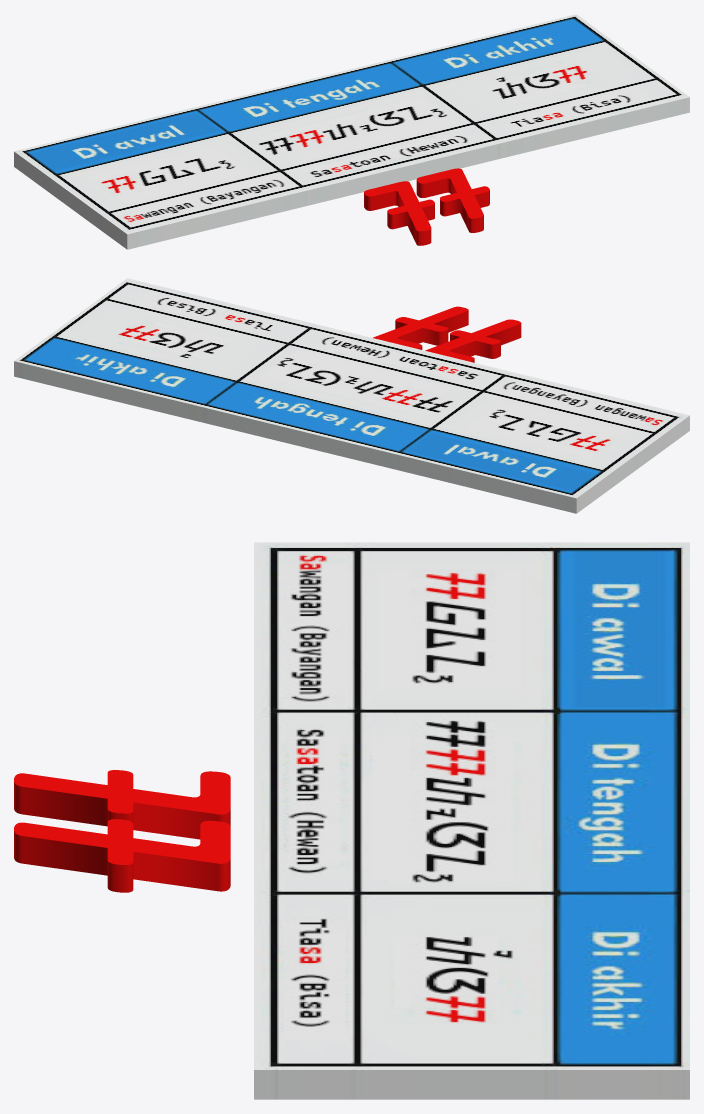
The picture shows the model from 3 angles, top to bottom: view 1: azimuth 30°, elevation 25°; view 2: azimuth 150°, elevation 25°; view 3: azimuth 270°, elevation 25°; orthographic projection. The views are drawn at different scales.
Visible parts, largest first — view 1: contoh-bunyi-huruf-sa-Ngalagena, Text; view 2: contoh-bunyi-huruf-sa-Ngalagena, Text; view 3: contoh-bunyi-huruf-sa-Ngalagena, Text.
Boxes of the visible parts, x1,y1,x2,y2 form: contoh-bunyi-huruf-sa-Ngalagena: (14,14,689,249); Text: (364,168,489,245); contoh-bunyi-huruf-sa-Ngalagena: (14,278,689,513); Text: (373,306,521,362); contoh-bunyi-huruf-sa-Ngalagena: (254,542,689,1099); Text: (14,770,230,892).
Size of the model in its own units: 2.86 by 0.11 by 1.55.
Materials: 2 (1 with a texture image).
